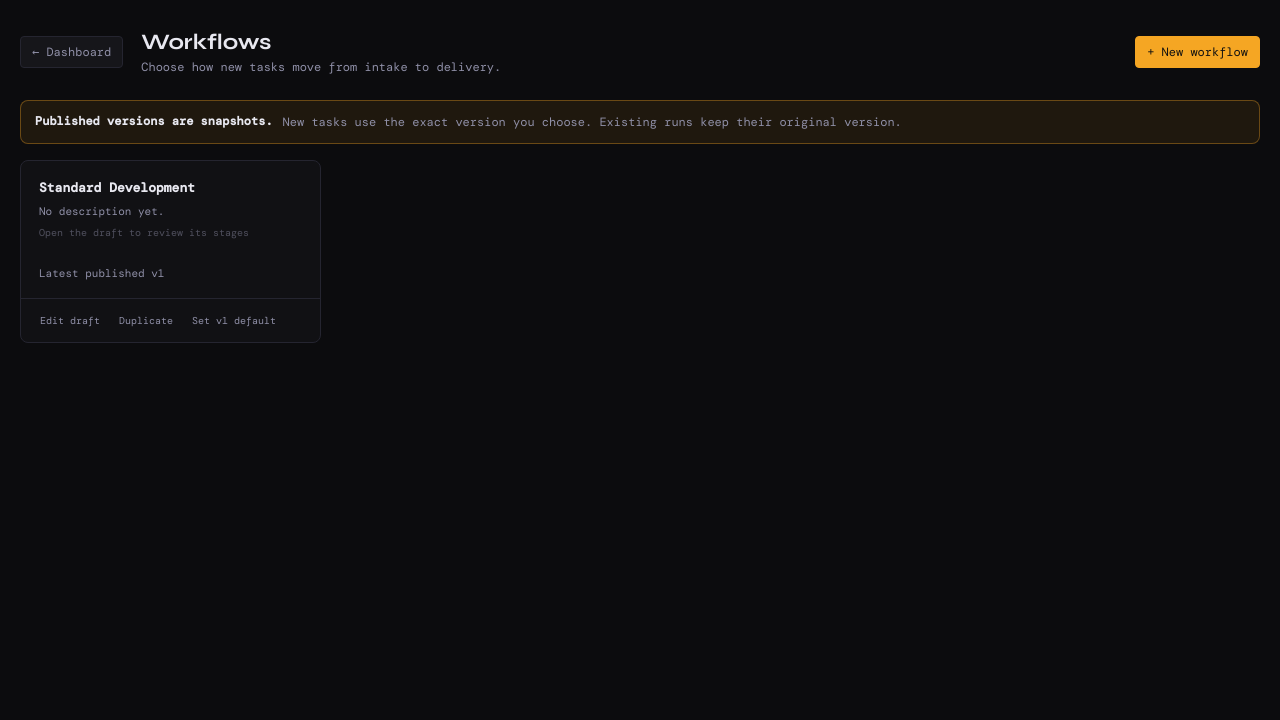
Test: WorkflowStudio › previews primary, alternative, feedback-loop, and Human Decision paths before publication
Click the text "Standard Development". click: (117, 188)
box: [39, 179, 195, 196]
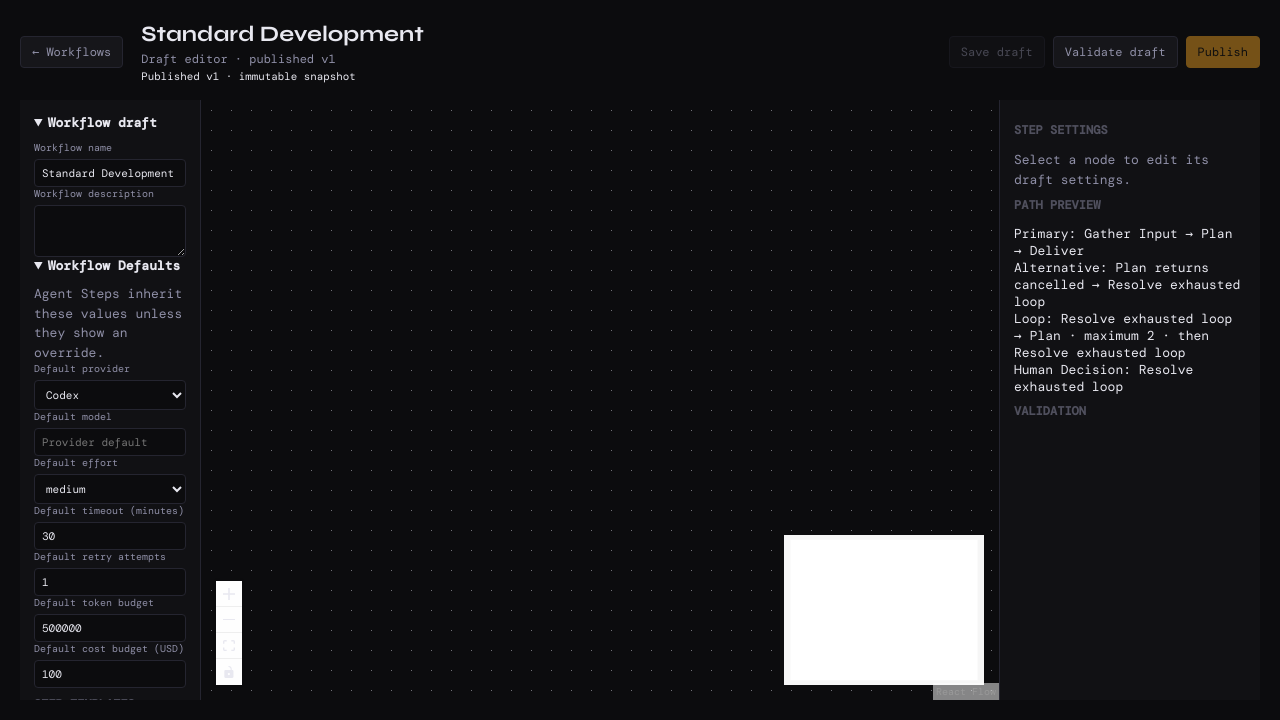
Expected: the heading "Path preview" is shown, [1014, 197, 1100, 213]
Expected: the text "Primary: Gather Input → Plan → Deliver" is shown, [1014, 225, 1246, 259]
Expected: the text "Alternative: Plan returns cancelled → Resolve exhausted loop" is shown, [1014, 259, 1246, 310]
